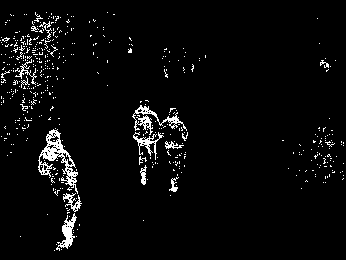person: (30, 125, 79, 251), (163, 103, 198, 193), (129, 96, 158, 184)
